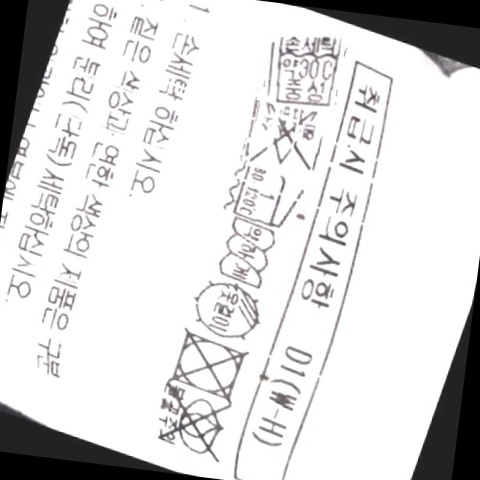DN_tumble_dry: (159, 324, 255, 404)
hand_wash: (260, 27, 351, 112)
iron_low: (226, 161, 305, 233)
line_dry_in_shade: (183, 274, 273, 346)
wring: (212, 215, 280, 292)
